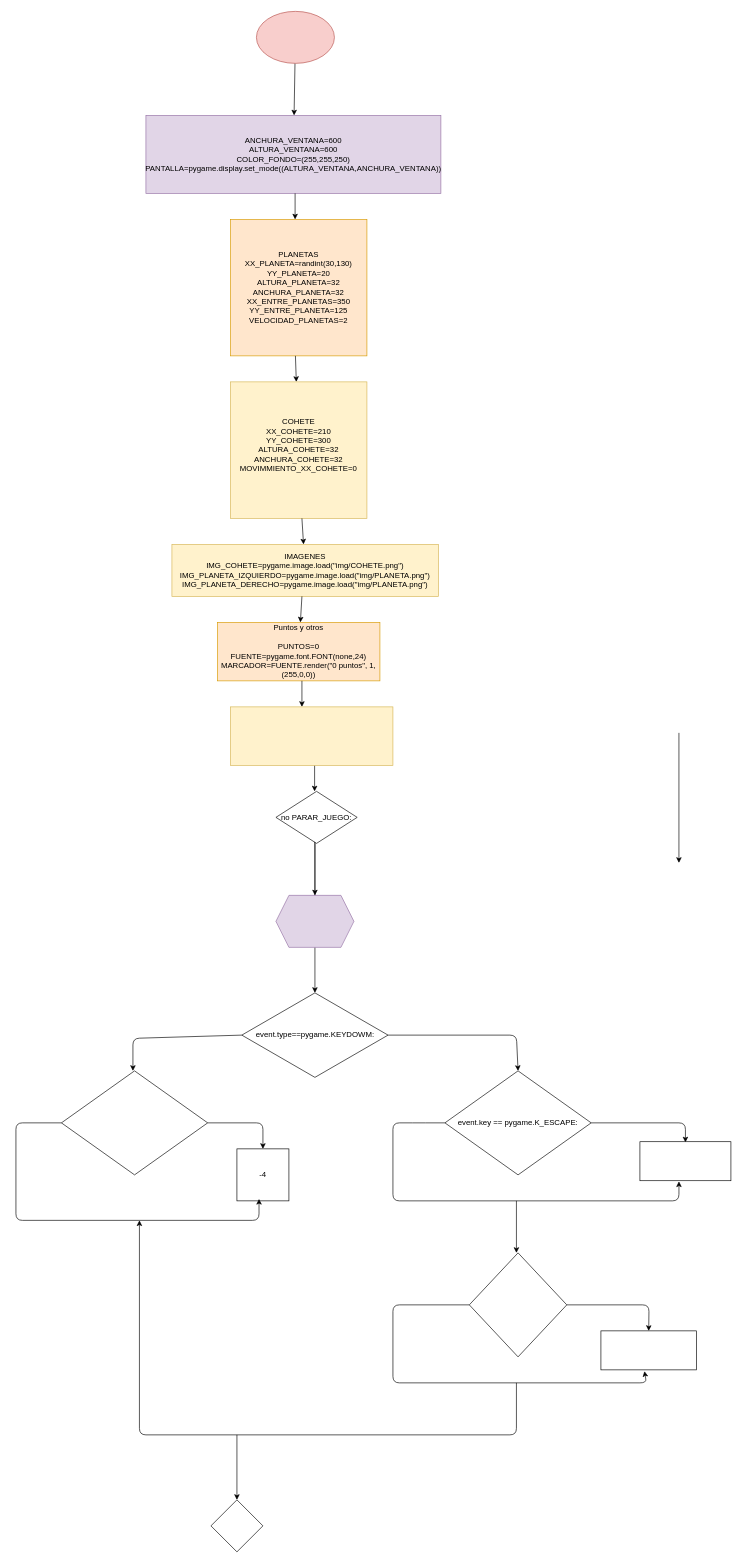
This 742x1563 diagram has some shape labels left out. Here are the shapes that lost their labels. From the top down, the box of each, then its label:
(256, 11, 334, 63): Inicio
(230, 706, 393, 765): pygame.display.set_caption("PRIMER JUEGO")
(275, 895, 354, 947): event in pygame.event.get():
(639, 1141, 731, 1181): PARAR_JUEGO = True
